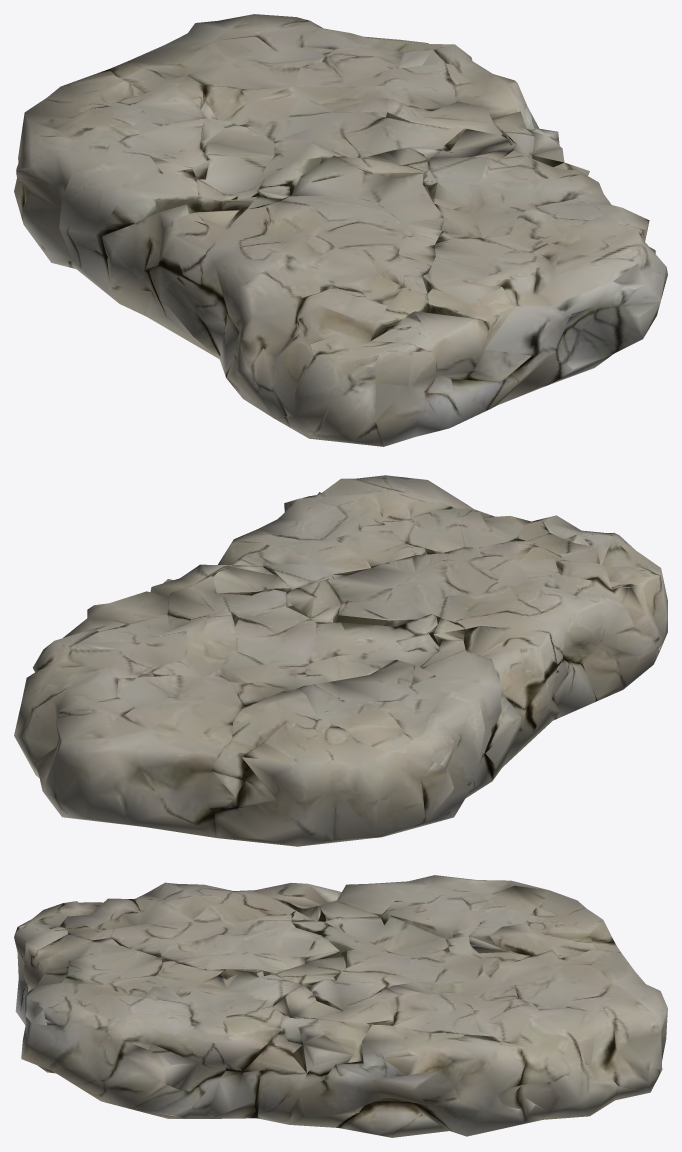
The model's file is rock-italy-slab.glb.
The picture shows the model from 3 angles, top to bottom: view 1: azimuth 30°, elevation 25°; view 2: azimuth 150°, elevation 25°; view 3: azimuth 270°, elevation 25°; orthographic projection. The views are drawn at different scales.
Visible parts, largest first — view 1: tripo_node_e8a4adff-dec0-4e85-adea-fcd5b15048e8; view 2: tripo_node_e8a4adff-dec0-4e85-adea-fcd5b15048e8; view 3: tripo_node_e8a4adff-dec0-4e85-adea-fcd5b15048e8.
Boxes of the visible parts, x1=… form: tripo_node_e8a4adff-dec0-4e85-adea-fcd5b15048e8: x1=14, y1=14, x2=667, y2=446; tripo_node_e8a4adff-dec0-4e85-adea-fcd5b15048e8: x1=14, y1=475, x2=667, y2=846; tripo_node_e8a4adff-dec0-4e85-adea-fcd5b15048e8: x1=14, y1=875, x2=667, y2=1137.
Size of the model in its own units: 1.49 by 0.4 by 2.25.
1 material, 1 textured.
